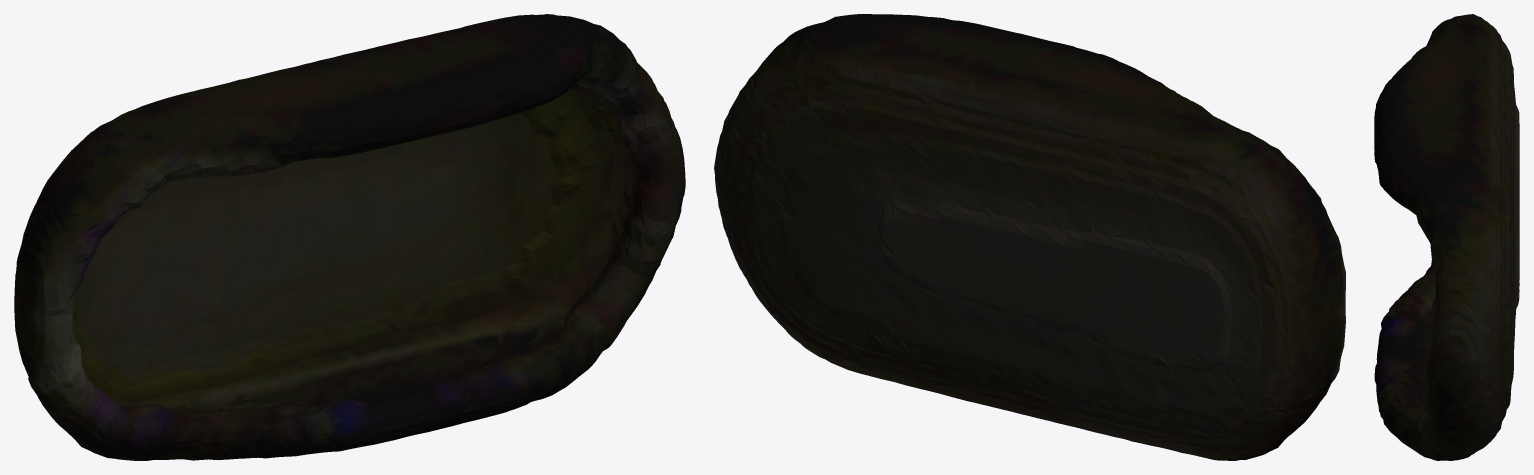
File: mouse_1.glb
The picture shows the model from 3 angles, left to right: view 1: azimuth 30°, elevation 25°; view 2: azimuth 150°, elevation 25°; view 3: azimuth 270°, elevation 25°; orthographic projection. The views are drawn at different scales.
Visible parts, largest first — view 1: geometry_0; view 2: geometry_0; view 3: geometry_0.
Boxes of the visible parts, box(x1,y1,x2,y2) form: geometry_0: box(14, 14, 685, 460); geometry_0: box(714, 14, 1345, 460); geometry_0: box(1374, 14, 1519, 460).
Size of the model in its own units: 1 by 0.5112 by 0.2426.
